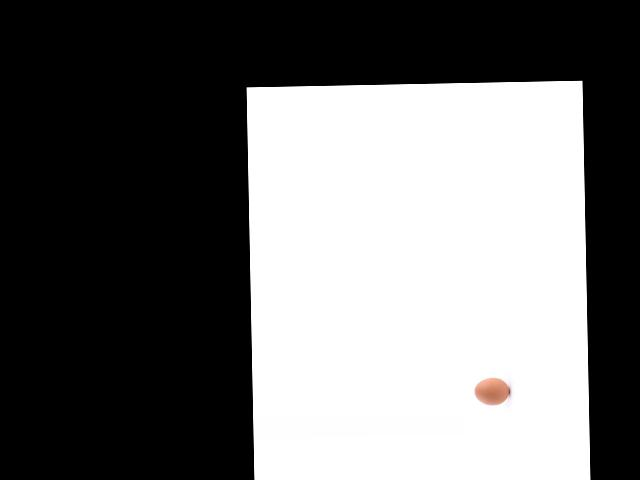egg: (474, 377, 509, 406)
